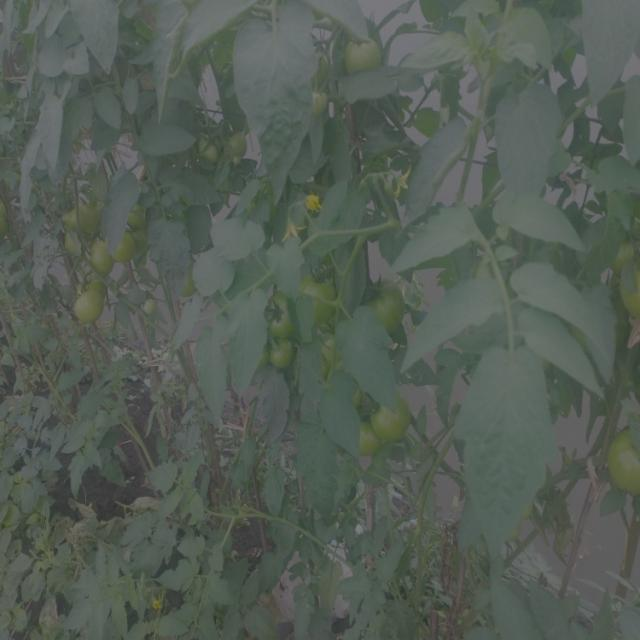tomato: (349, 382, 411, 447), (608, 233, 640, 321), (198, 129, 257, 171), (270, 293, 299, 373), (366, 281, 409, 333), (604, 425, 640, 487), (302, 272, 344, 325), (95, 232, 144, 270), (350, 34, 394, 71), (75, 276, 110, 320), (62, 202, 106, 235), (303, 91, 335, 123), (130, 193, 152, 229), (322, 340, 343, 376), (183, 268, 196, 299), (145, 298, 159, 316)
